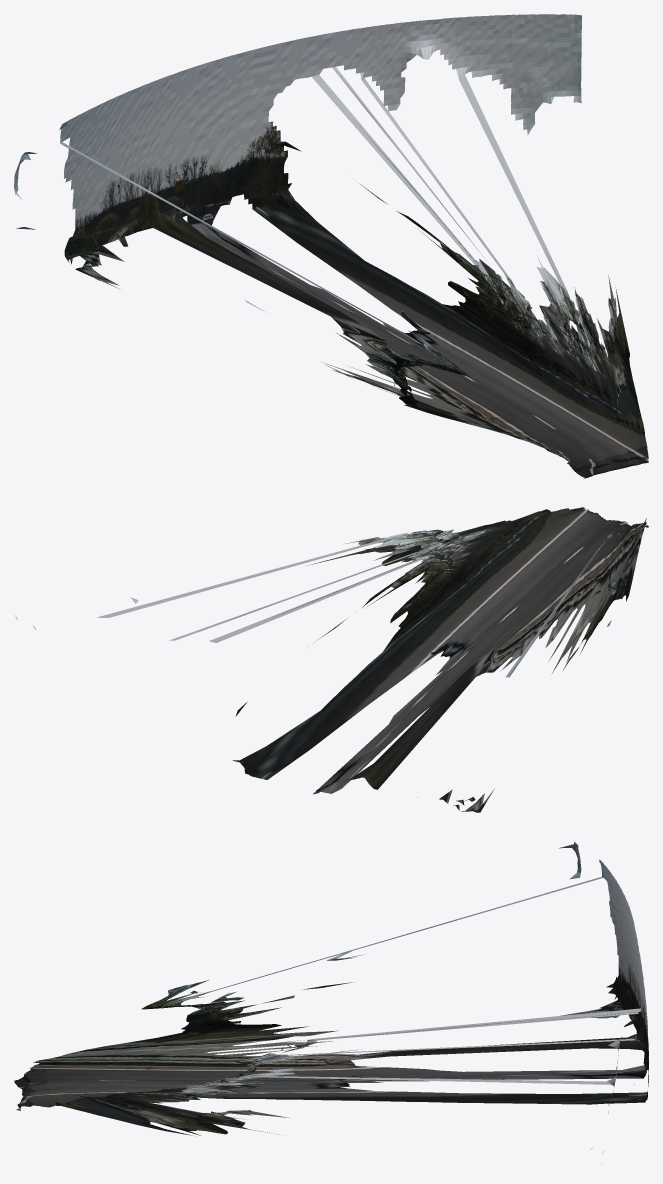
The picture shows the model from 3 angles, top to bottom: view 1: azimuth 30°, elevation 25°; view 2: azimuth 150°, elevation 25°; view 3: azimuth 270°, elevation 25°; orthographic projection. The views are drawn at different scales.
Parts seen in each view (by area): view 1: defaultobject; view 2: defaultobject; view 3: defaultobject.
Boxes of the visible parts, box(x1,y1,x2,y2) form: defaultobject: box(14, 14, 648, 478); defaultobject: box(15, 507, 648, 812); defaultobject: box(14, 842, 648, 1164).
Size of the model in its own units: 40.84 by 11.7 by 44.64.
1 material, 1 textured.
